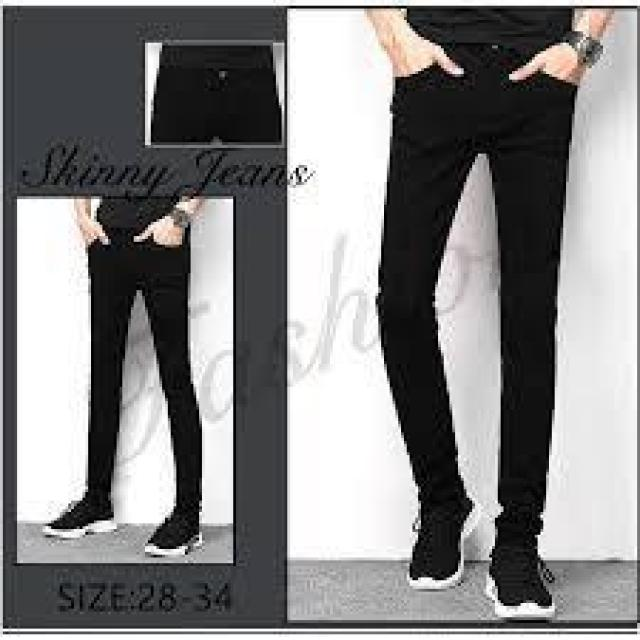pants: (372, 30, 578, 516), (82, 215, 208, 516)
